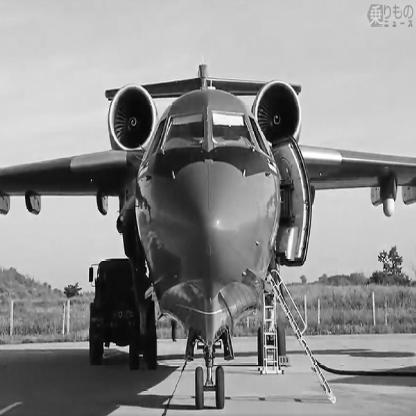Be200: (2, 54, 416, 412)
